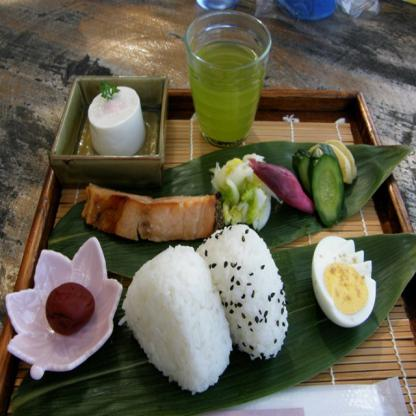rice roll: (128, 247, 230, 387), (197, 222, 291, 362)
